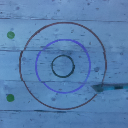Axe Tip: (91, 85, 102, 87)
